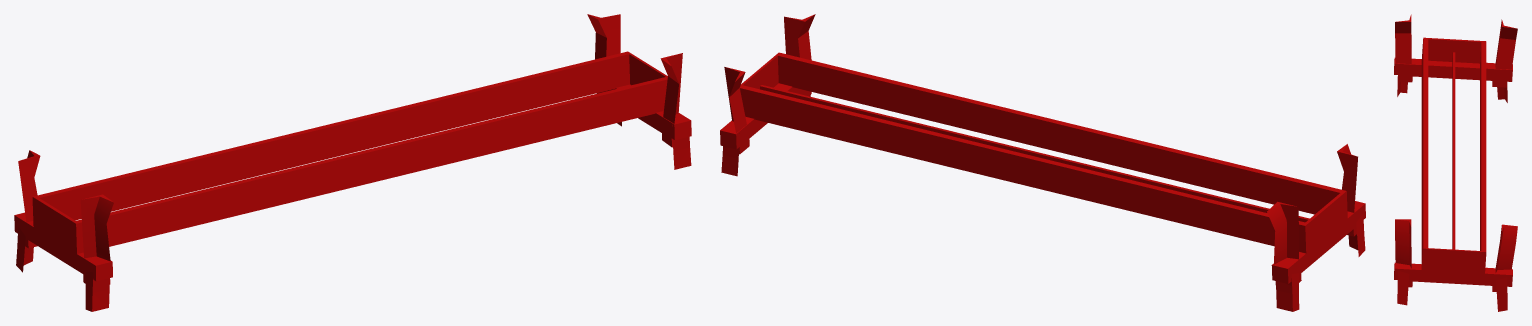
Rendered from STSSpreader.FBX.
The picture shows the model from 3 angles, left to right: view 1: azimuth 30°, elevation 25°; view 2: azimuth 150°, elevation 25°; view 3: azimuth 270°, elevation 25°; orthographic projection. The views are drawn at different scales.
Visible parts, largest first — view 1: STSSpreader; view 2: STSSpreader; view 3: STSSpreader.
Part boxes in pixels (x1,y1,x2,y2): STSSpreader: [14, 14, 691, 311]; STSSpreader: [720, 14, 1365, 311]; STSSpreader: [1394, 14, 1517, 311].
Size of the model in its own units: 1248 by 232 by 306.
